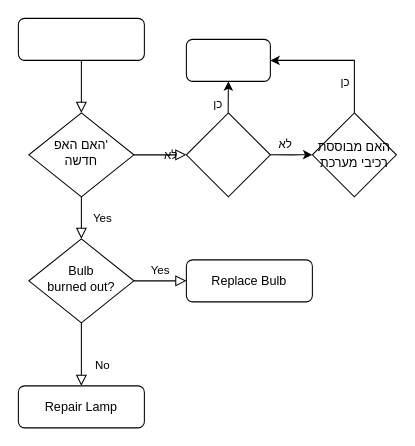
Image size: 415x446. Some labels were removed from this diagram. Each missing label, with the box of its shape:
VM: (185, 38, 270, 81)
האם זו אפ' מורשת?: (185, 112, 270, 197)
התחלה: (17, 17, 144, 60)
